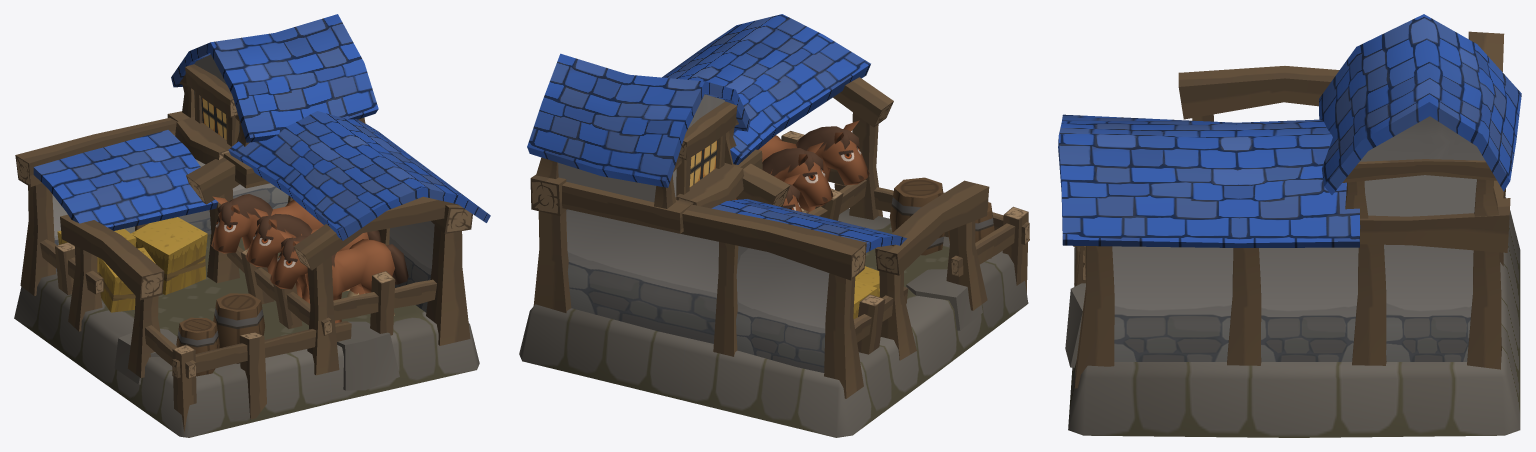
File: Stables.FBX
3 renders of one model, left to right at view 1: azimuth 30°, elevation 25°; view 2: azimuth 150°, elevation 25°; view 3: azimuth 270°, elevation 25°, orthographic. The views are drawn at different scales.
Parts seen in each view (by area): view 1: Stables; view 2: Stables; view 3: Stables.
Part boxes in pixels (left/top/right/bottom): Stables: left=14, top=14, right=490, bottom=437; Stables: left=519, top=14, right=1029, bottom=437; Stables: left=1058, top=14, right=1521, bottom=437.
Size of the model in its own units: 671 by 537 by 675.
